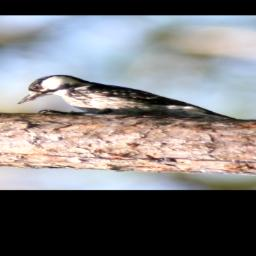Woodpecker: (15, 73, 250, 120)
